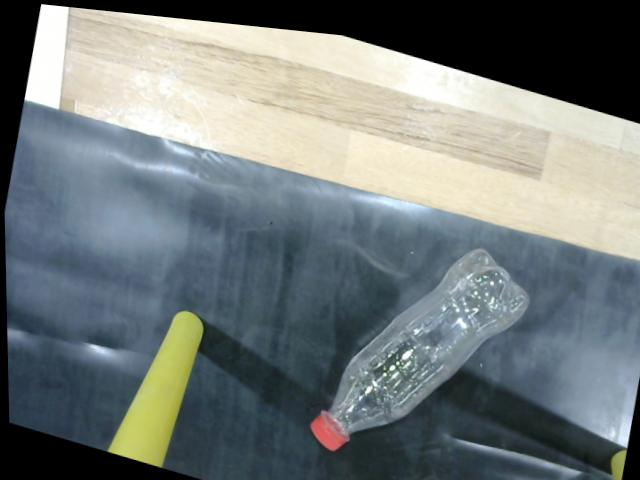bottle: (300, 232, 542, 453)
